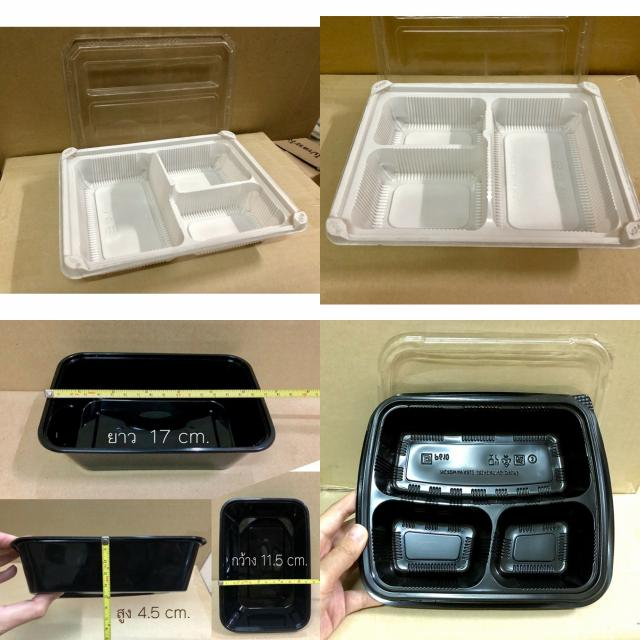Single-Use-Plastic: (356, 392, 614, 609), (326, 80, 640, 248), (60, 131, 308, 279), (62, 35, 232, 148), (39, 399, 275, 470), (220, 499, 315, 632), (12, 536, 206, 598), (51, 352, 259, 389)
